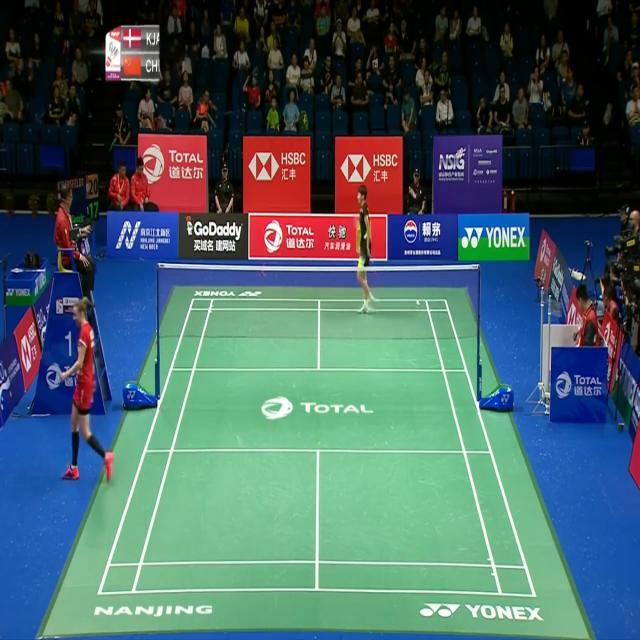Player1: (47, 290, 119, 487)
Player2: (349, 184, 379, 317)
